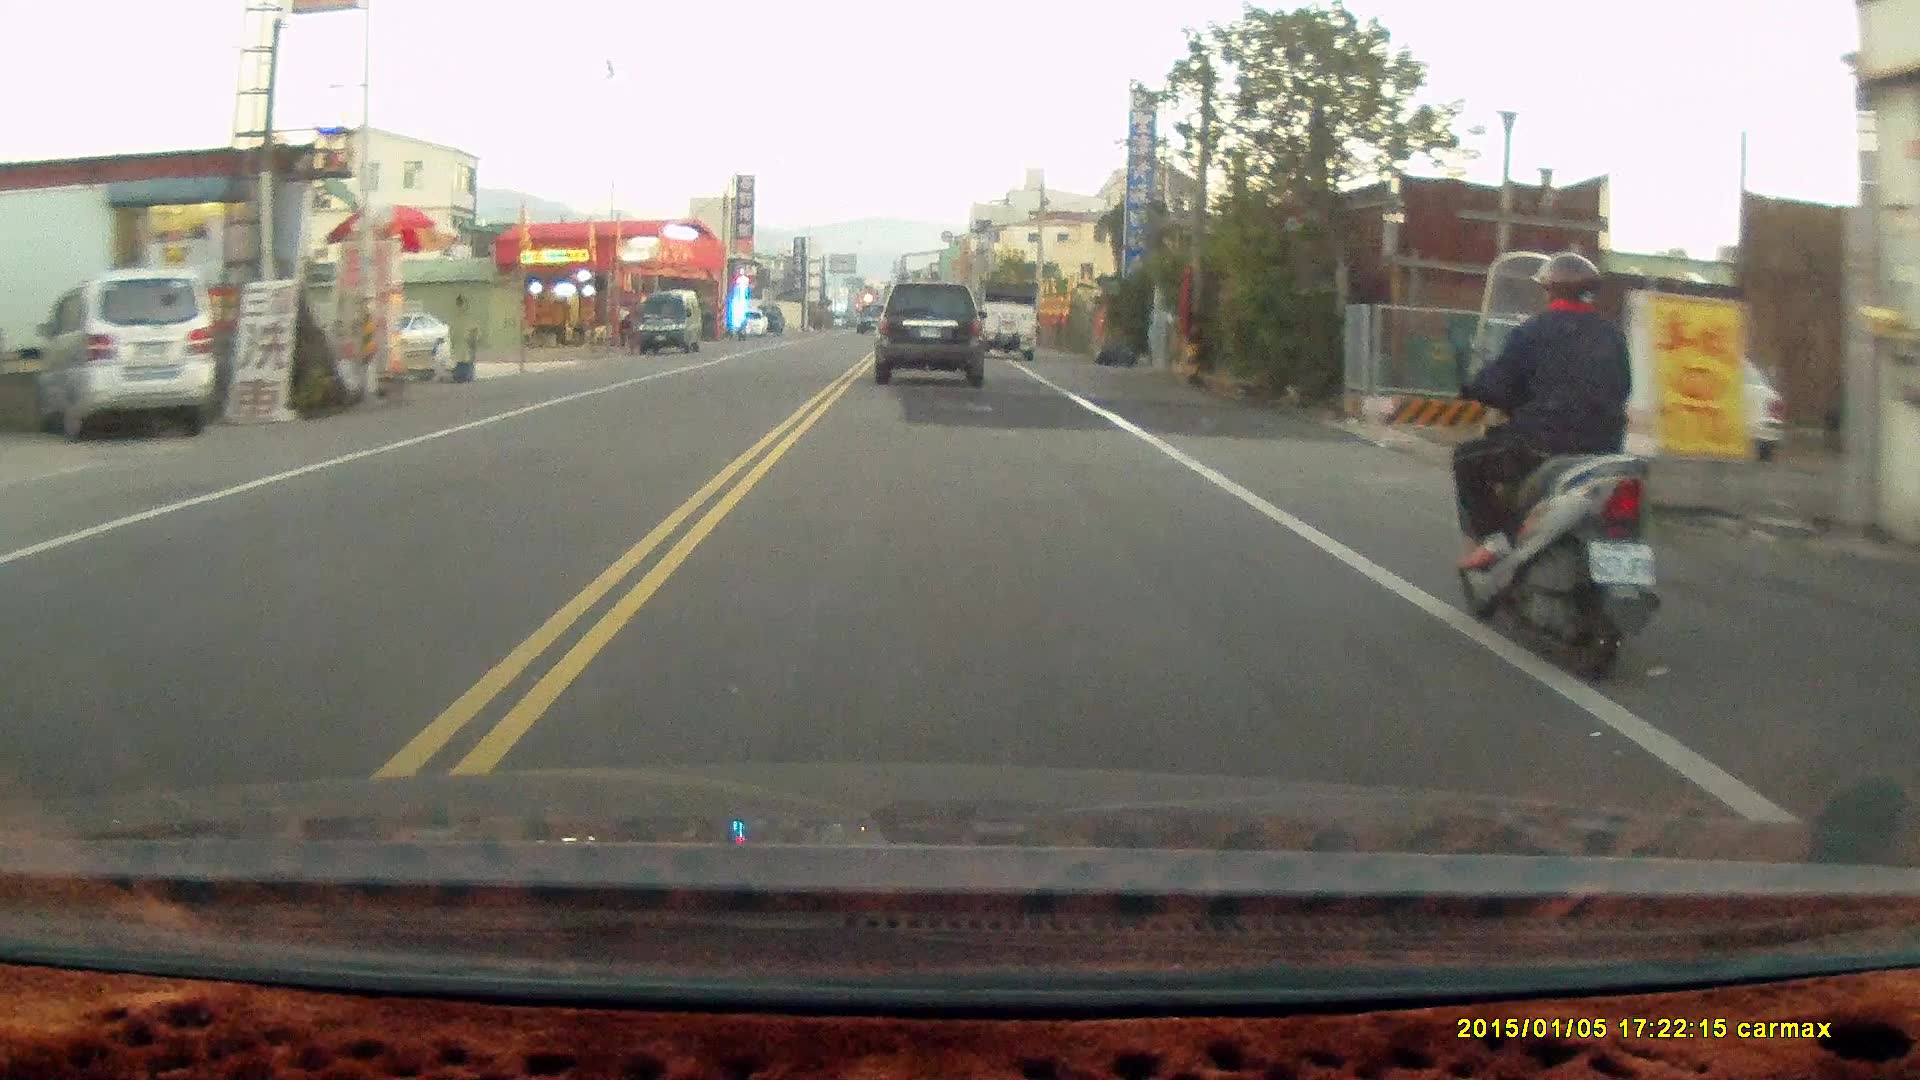rider: (1443, 254, 1661, 693)
vehicle: (36, 267, 221, 438), (875, 278, 987, 386), (978, 281, 1040, 361), (638, 292, 703, 357)
